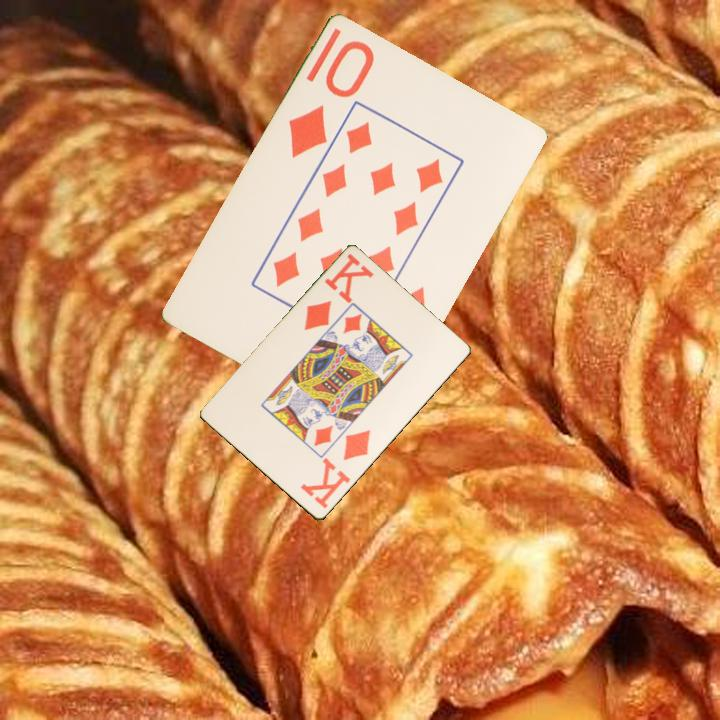10d: (284, 37, 378, 162)
Kd: (297, 426, 374, 512), (300, 250, 376, 334)
